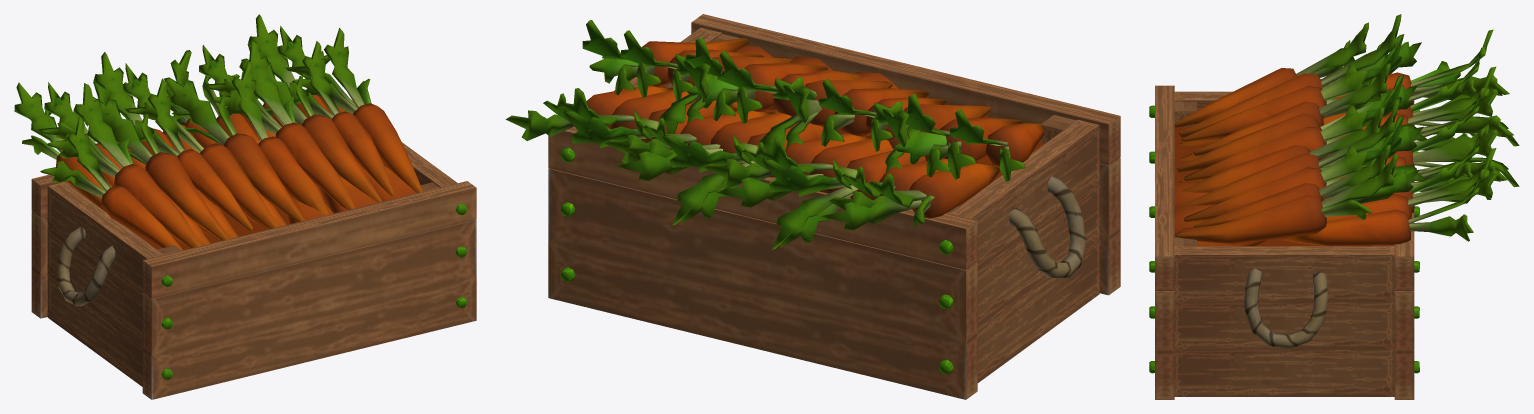
File: FarmCrate_Carrot.gltf
3 renders of one model, left to right at view 1: azimuth 30°, elevation 25°; view 2: azimuth 150°, elevation 25°; view 3: azimuth 270°, elevation 25°, orthographic. The views are drawn at different scales.
Parts seen in each view (by area): view 1: FarmCrate_Carrot; view 2: FarmCrate_Carrot; view 3: FarmCrate_Carrot.
Boxes of the visible parts, x1,y1,x2,y2 form: FarmCrate_Carrot: (14,14,476,399); FarmCrate_Carrot: (506,14,1120,399); FarmCrate_Carrot: (1149,14,1519,399).
Bounding box in the file's own units: 0.7138 × 0.4113 × 0.567.
3 materials, 3 textured.
